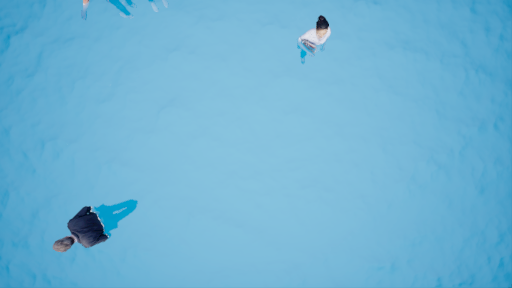person: (41, 196, 146, 254), (294, 11, 340, 70)
